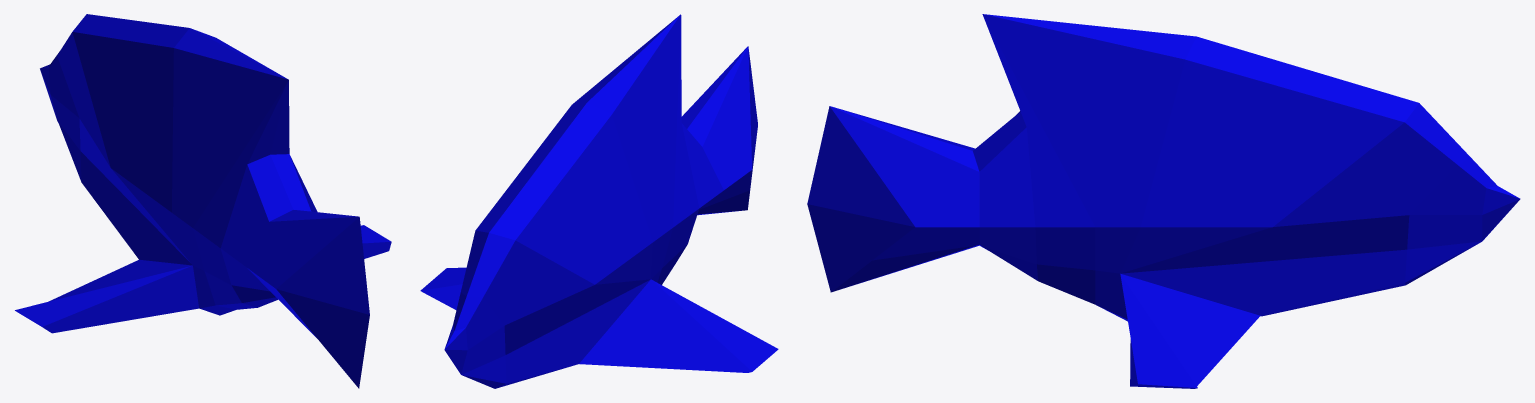
Rendered from Blue fish.fbx.
The picture shows the model from 3 angles, left to right: view 1: azimuth 30°, elevation 25°; view 2: azimuth 150°, elevation 25°; view 3: azimuth 270°, elevation 25°; orthographic projection. The views are drawn at different scales.
Parts seen in each view (by area): view 1: Red_Fish:pCube1, pCube1; view 2: Red_Fish:pCube1, pCube1; view 3: pCube1.
Part boxes in pixels (x1,y1,x2,y2): Red_Fish:pCube1: [15, 14, 369, 388]; pCube1: [46, 28, 391, 258]; Red_Fish:pCube1: [444, 14, 778, 388]; pCube1: [420, 15, 746, 374]; pCube1: [807, 14, 1520, 388].
Bounding box in the file's own units: 1.66 × 1.3 × 2.71.
